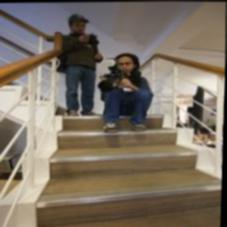Bench: (40, 128, 211, 217)
